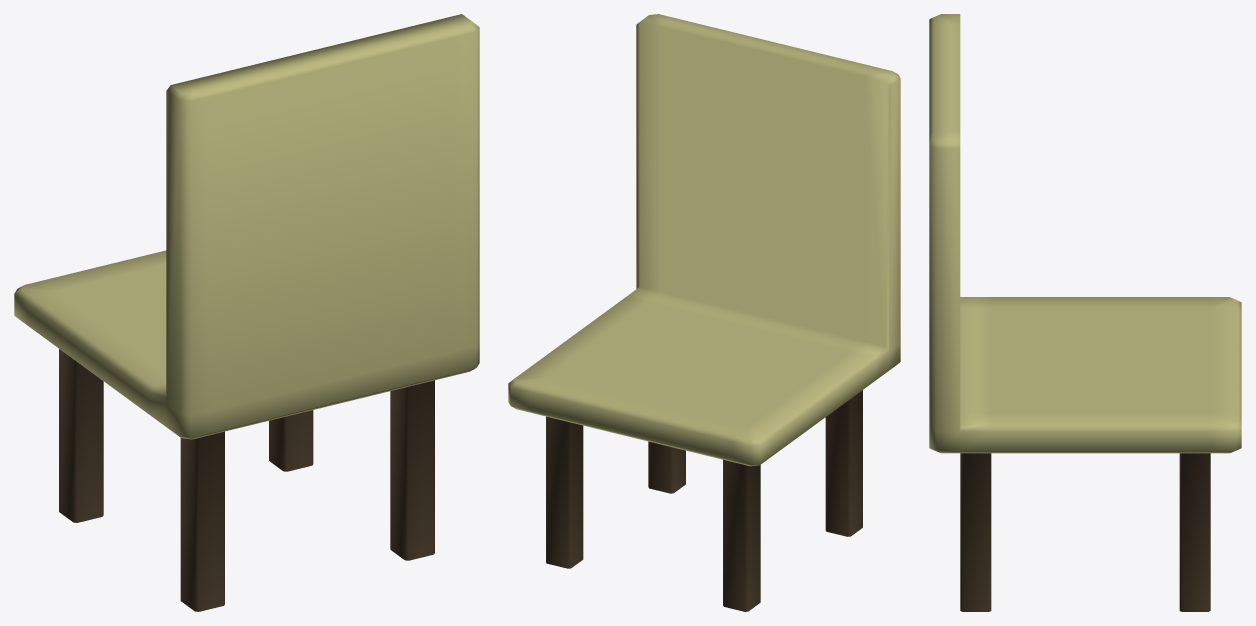
File: chair_separated.gltf
3 views of the same model, side by side, from view 1: azimuth 30°, elevation 25°; view 2: azimuth 150°, elevation 25°; view 3: azimuth 270°, elevation 25° (orthographic). The views are drawn at different scales.
Parts seen in each view (by area): view 1: Chair; view 2: Chair; view 3: Chair.
Boxes of the visible parts, bbox=[...] form: Chair: bbox=[14, 14, 479, 611]; Chair: bbox=[508, 14, 900, 611]; Chair: bbox=[929, 14, 1241, 611].
Size of the model in its own units: 1 by 1.7 by 1.
